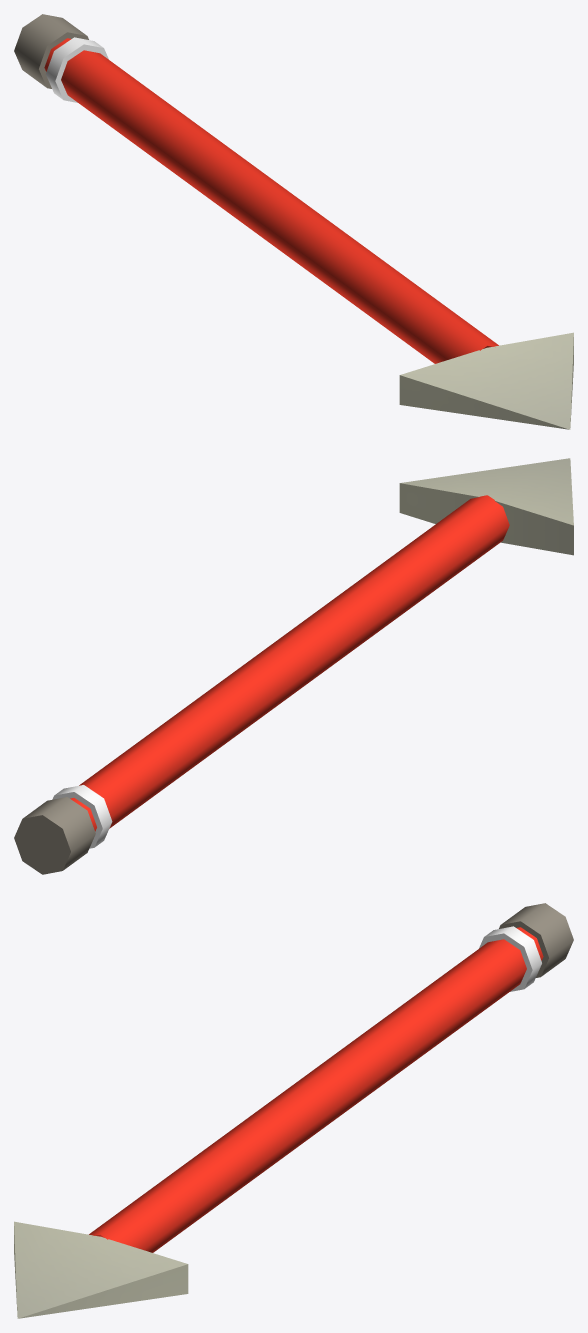
The model's file is arrow2.fbx.
The picture shows the model from 3 angles, top to bottom: view 1: azimuth 30°, elevation 25°; view 2: azimuth 150°, elevation 25°; view 3: azimuth 330°, elevation 25°; orthographic projection.
Parts seen in each view (by area): view 1: arrow2; view 2: arrow2; view 3: arrow2.
Part boxes in pixels (x1,y1,x2,y2): arrow2: (14, 14, 573, 429); arrow2: (14, 458, 573, 874); arrow2: (14, 903, 573, 1318).
Bounding box in the file's own units: 0.4895 × 0.1605 × 2.57.
1 material, 1 textured.
